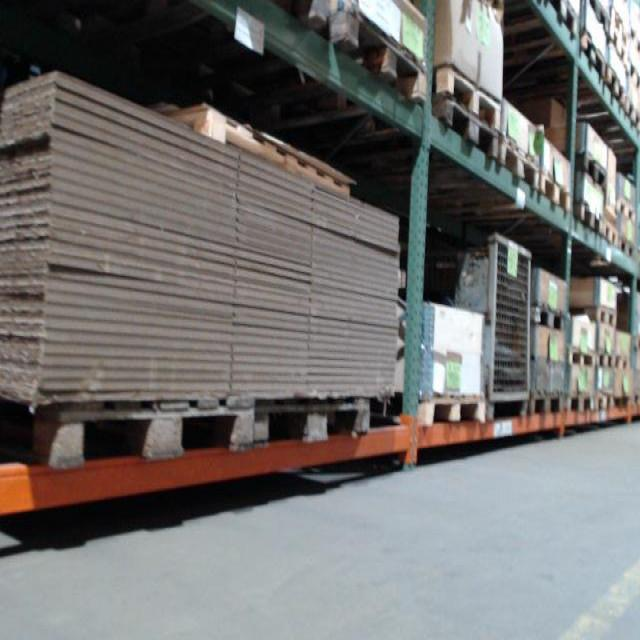pallet: (16, 377, 263, 477), (302, 1, 428, 102), (408, 57, 508, 131), (254, 387, 379, 445), (409, 97, 504, 167), (386, 387, 491, 431), (568, 20, 604, 88), (562, 150, 612, 195), (518, 1, 578, 37), (501, 141, 538, 199), (537, 165, 569, 222), (524, 387, 568, 419), (528, 299, 566, 336), (569, 193, 600, 238), (600, 61, 624, 113), (568, 305, 621, 328), (558, 393, 598, 419), (591, 387, 615, 413), (568, 349, 597, 370), (600, 221, 619, 252), (625, 98, 638, 137), (616, 197, 635, 222), (619, 241, 636, 263), (616, 357, 633, 371), (597, 357, 616, 367)
stillage: (404, 233, 534, 416)
